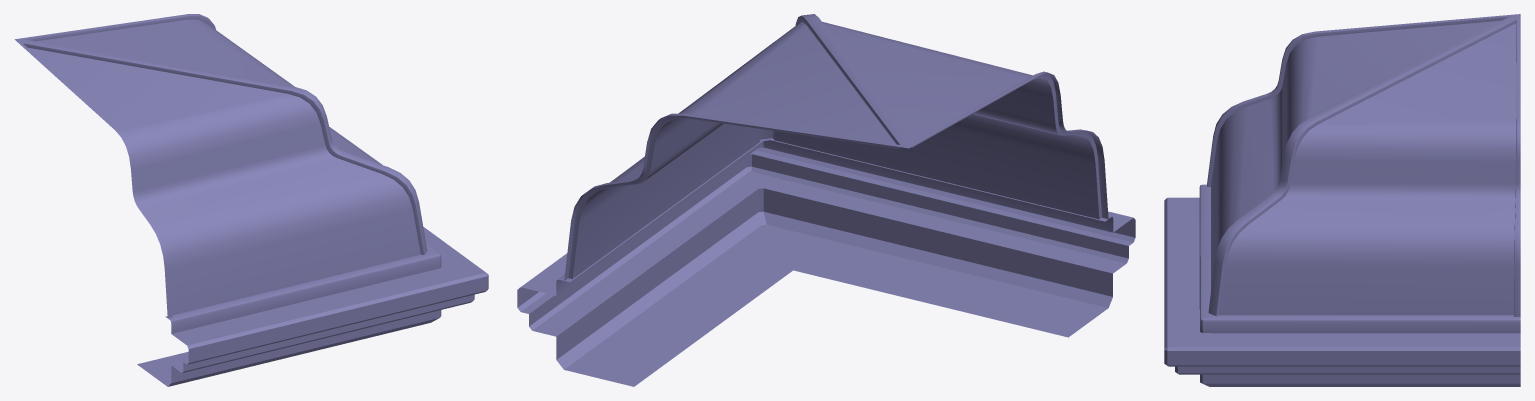
The model's file is M_A_roof_02.fbx.
The picture shows the model from 3 angles, left to right: view 1: azimuth 30°, elevation 25°; view 2: azimuth 150°, elevation 25°; view 3: azimuth 270°, elevation 25°; orthographic projection. The views are drawn at different scales.
Parts seen in each view (by area): view 1: M_A_roof_02; view 2: M_A_roof_02; view 3: M_A_roof_02.
Part boxes in pixels (x1=…): M_A_roof_02: x1=14, y1=14, x2=488, y2=386; M_A_roof_02: x1=517, y1=14, x2=1135, y2=386; M_A_roof_02: x1=1164, y1=14, x2=1520, y2=386.
Size of the model in its own units: 360 by 268 by 360.
